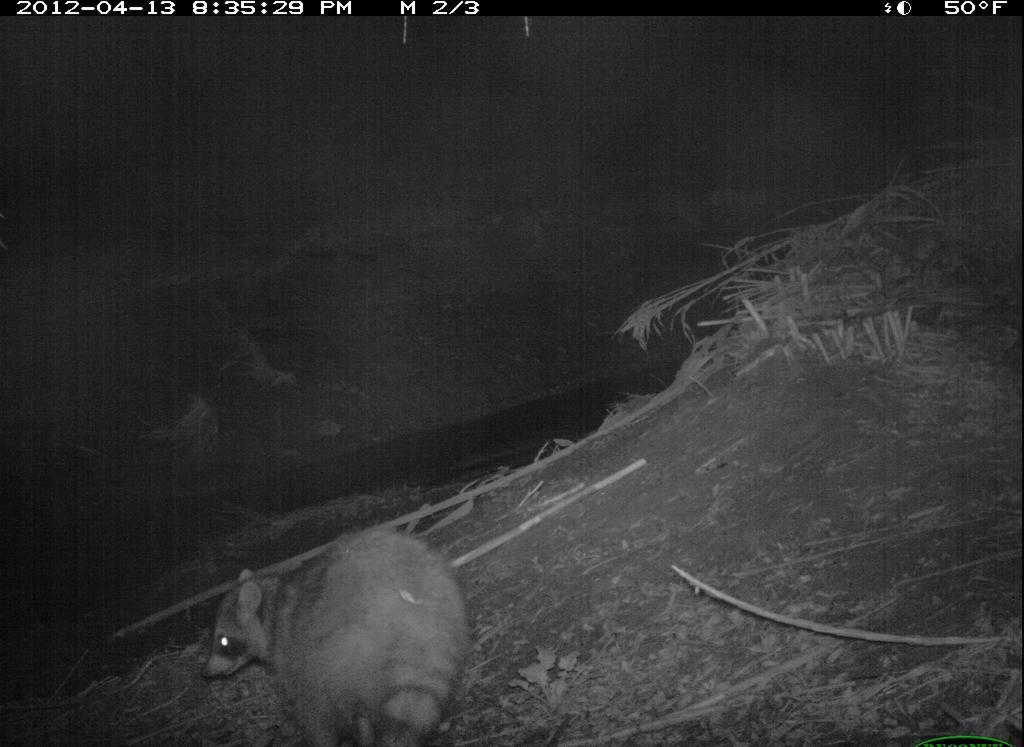raccoon: (193, 519, 477, 747)
